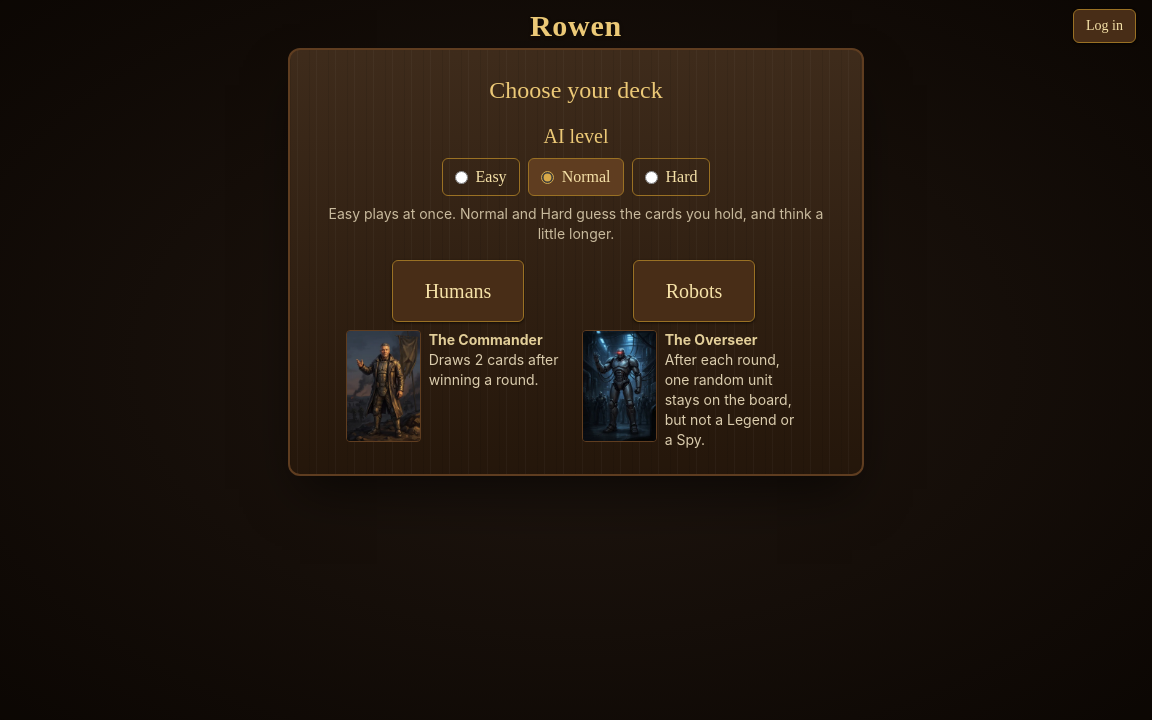
it: a wrong password is said in the dialog, which stays open
Click the button "Log in" at (1104,26), box [1073, 9, 1136, 43]
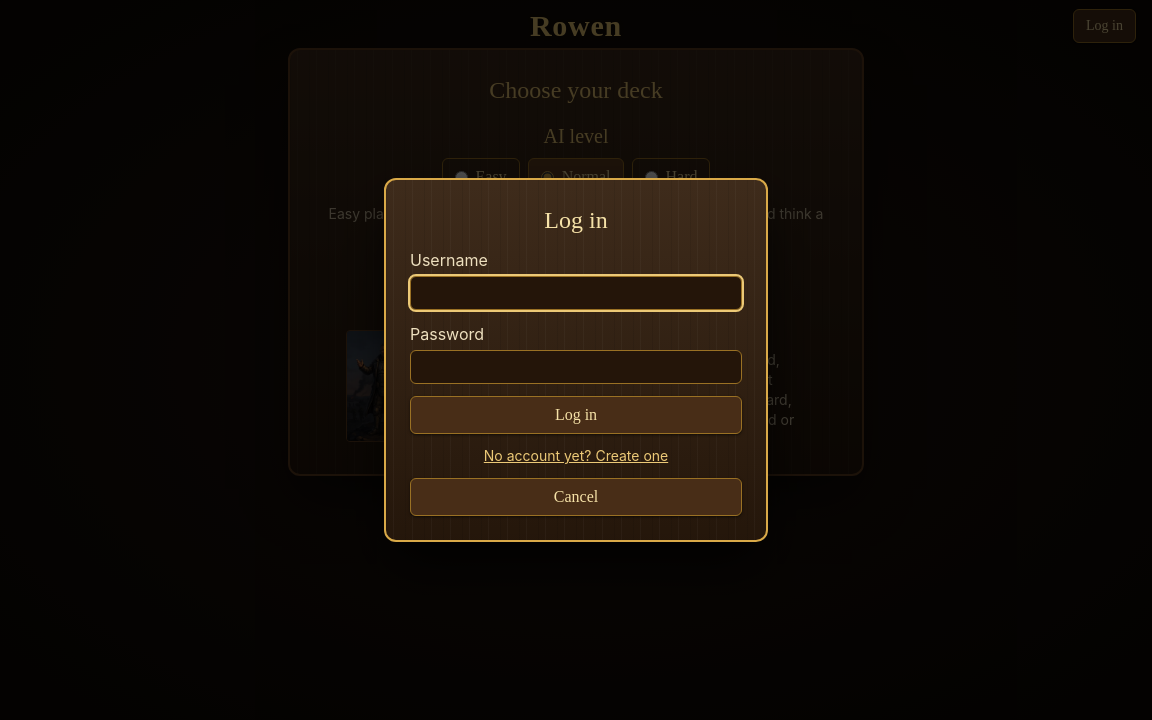
Type "rui" into the field labelled "Username" at (576,293), box [410, 276, 742, 310]
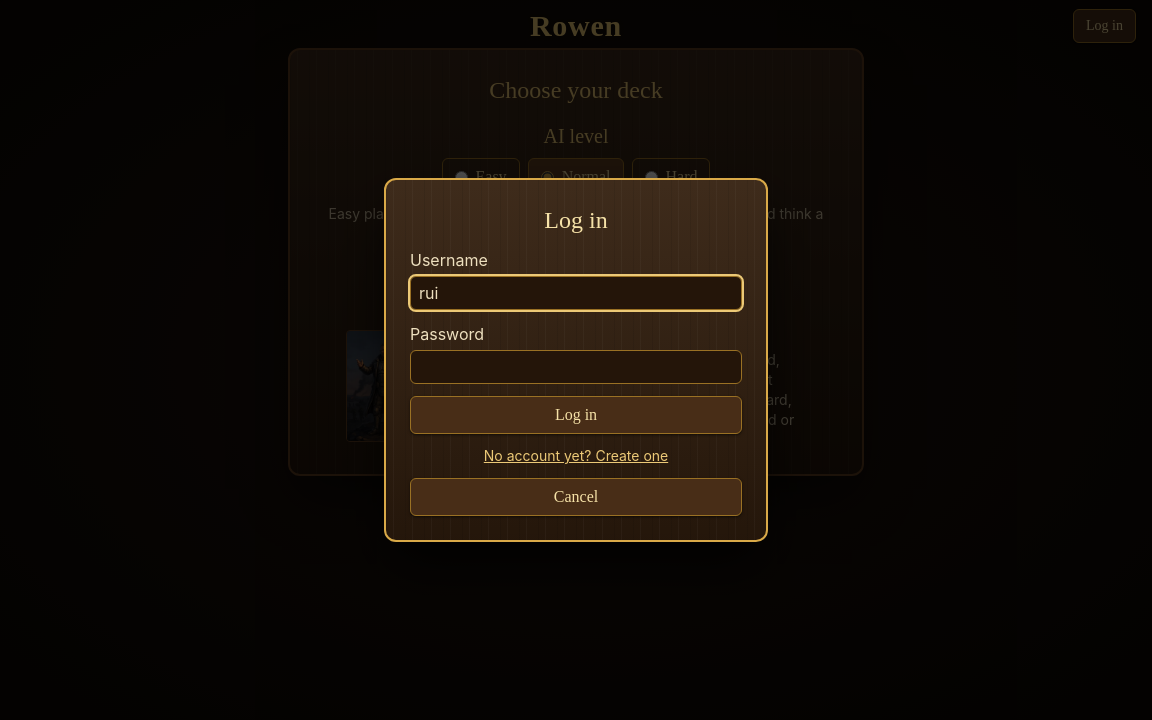
Type "dragon124" into the password field labelled "Password" at (576,367), box [410, 350, 742, 384]
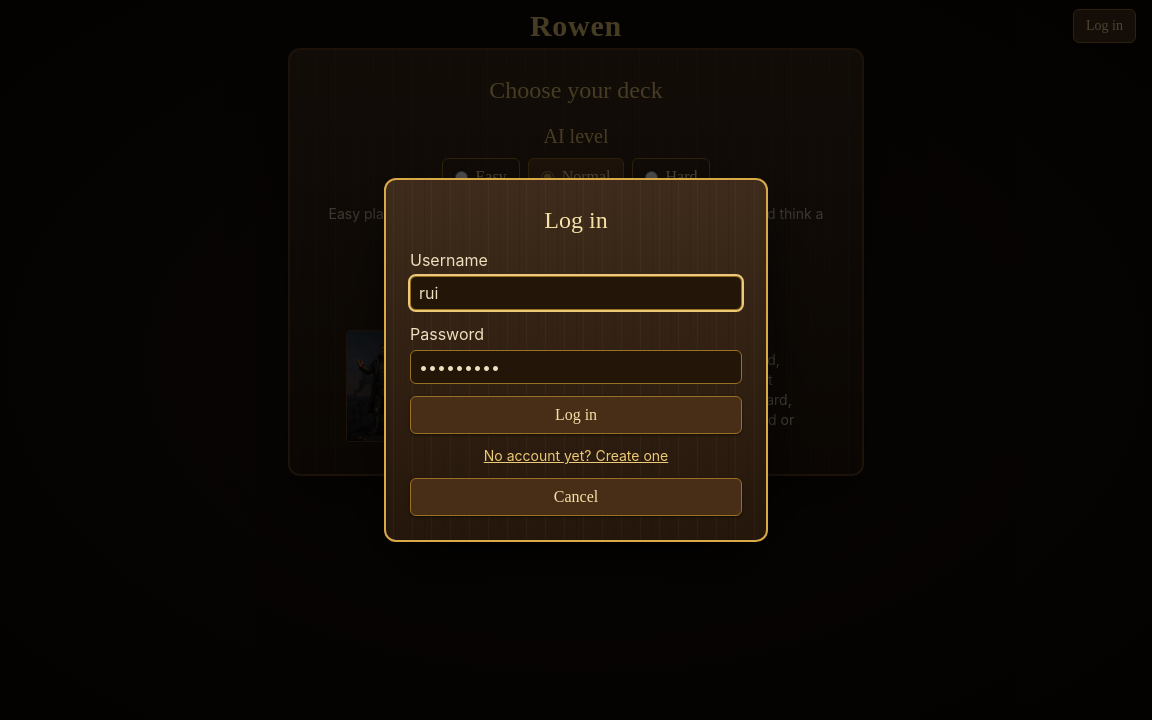
Submit the form, box [384, 178, 768, 542]
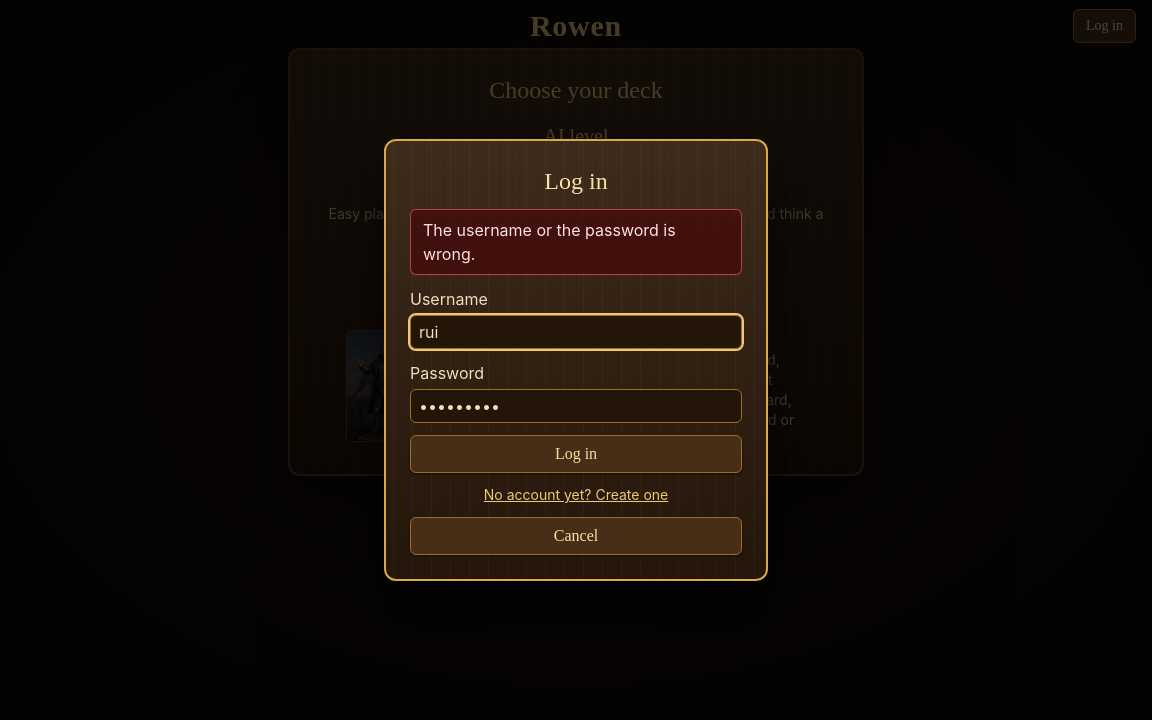
Check: the dialog is shown
Check: the message reads "The username or the password is wrong.", box [423, 220, 676, 264]
